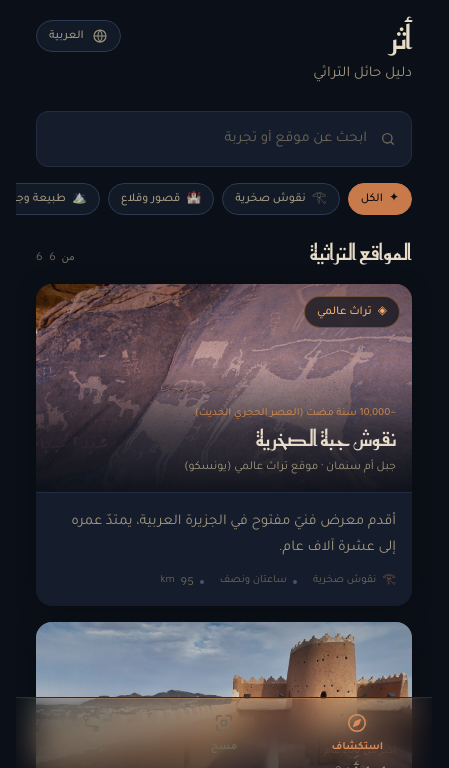
شاشة الاستكشاف › تُظهر رسالة واضحة عند غياب النتائج
Type "زززز" into the search field named "بحث في المواقع" at x=224, y=139, box top-left (36, 111), bottom-right (412, 167)
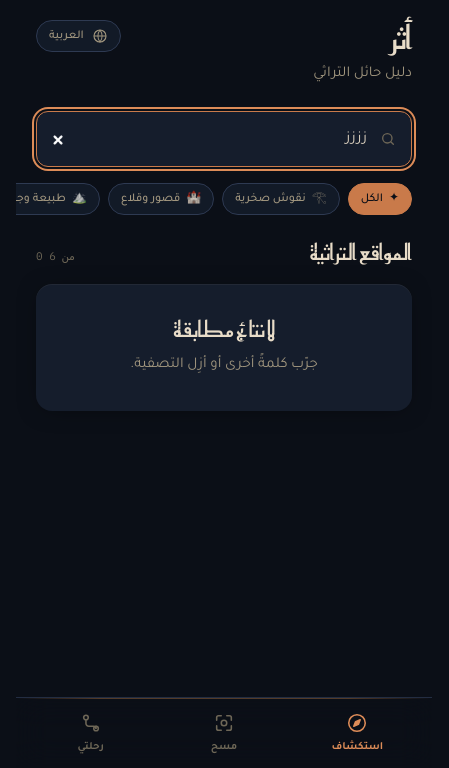
Now the text "لا نتائج مطابقة" is shown, box top-left (173, 313), bottom-right (275, 346)
